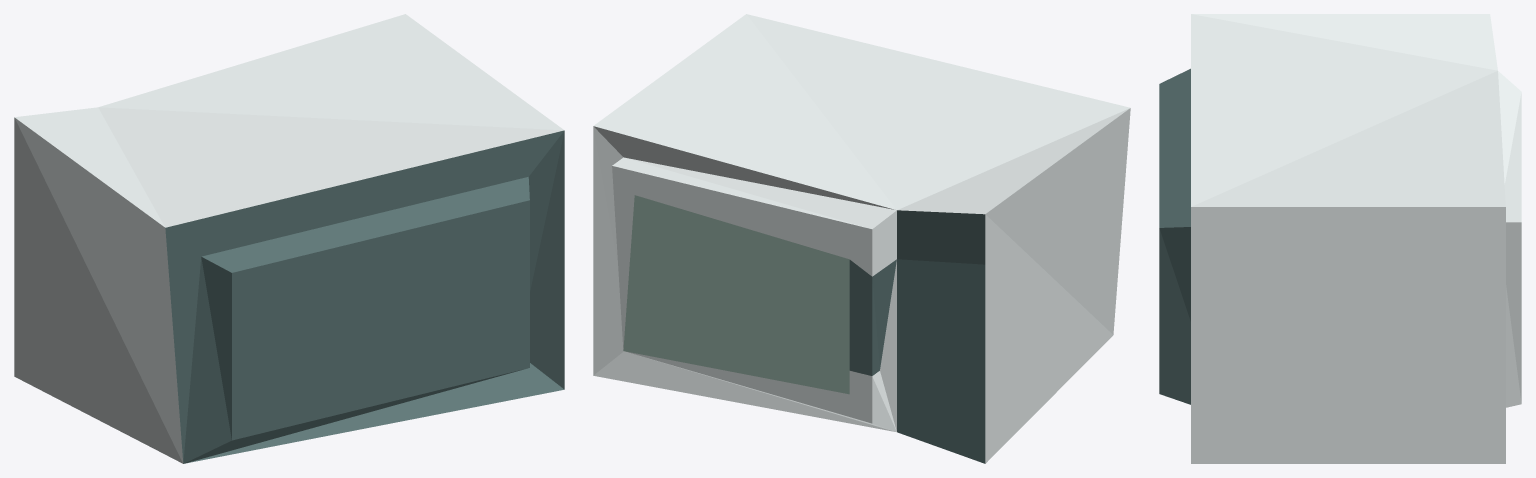
The model's file is kitchenMicrowave_vita.obj.
The picture shows the model from 3 angles, left to right: view 1: azimuth 30°, elevation 25°; view 2: azimuth 150°, elevation 25°; view 3: azimuth 270°, elevation 25°; orthographic projection. The views are drawn at different scales.
Bounding box in the file's own units: 0.29 × 0.18 × 0.23.
